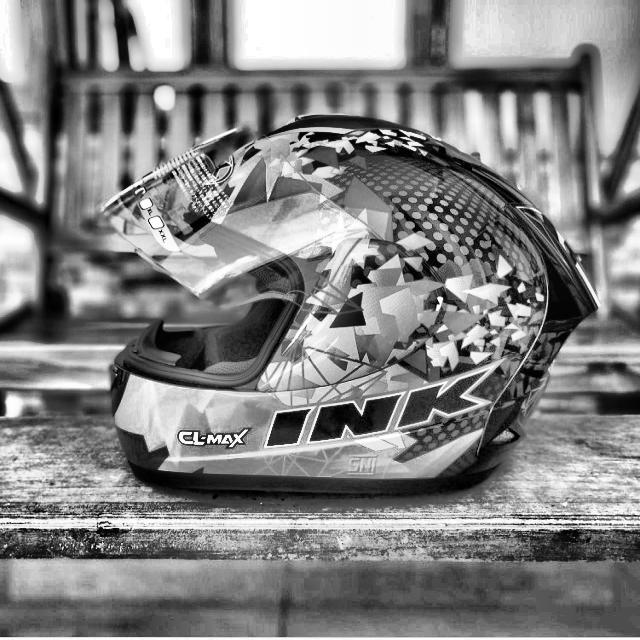Helmet: (95, 112, 597, 512)
